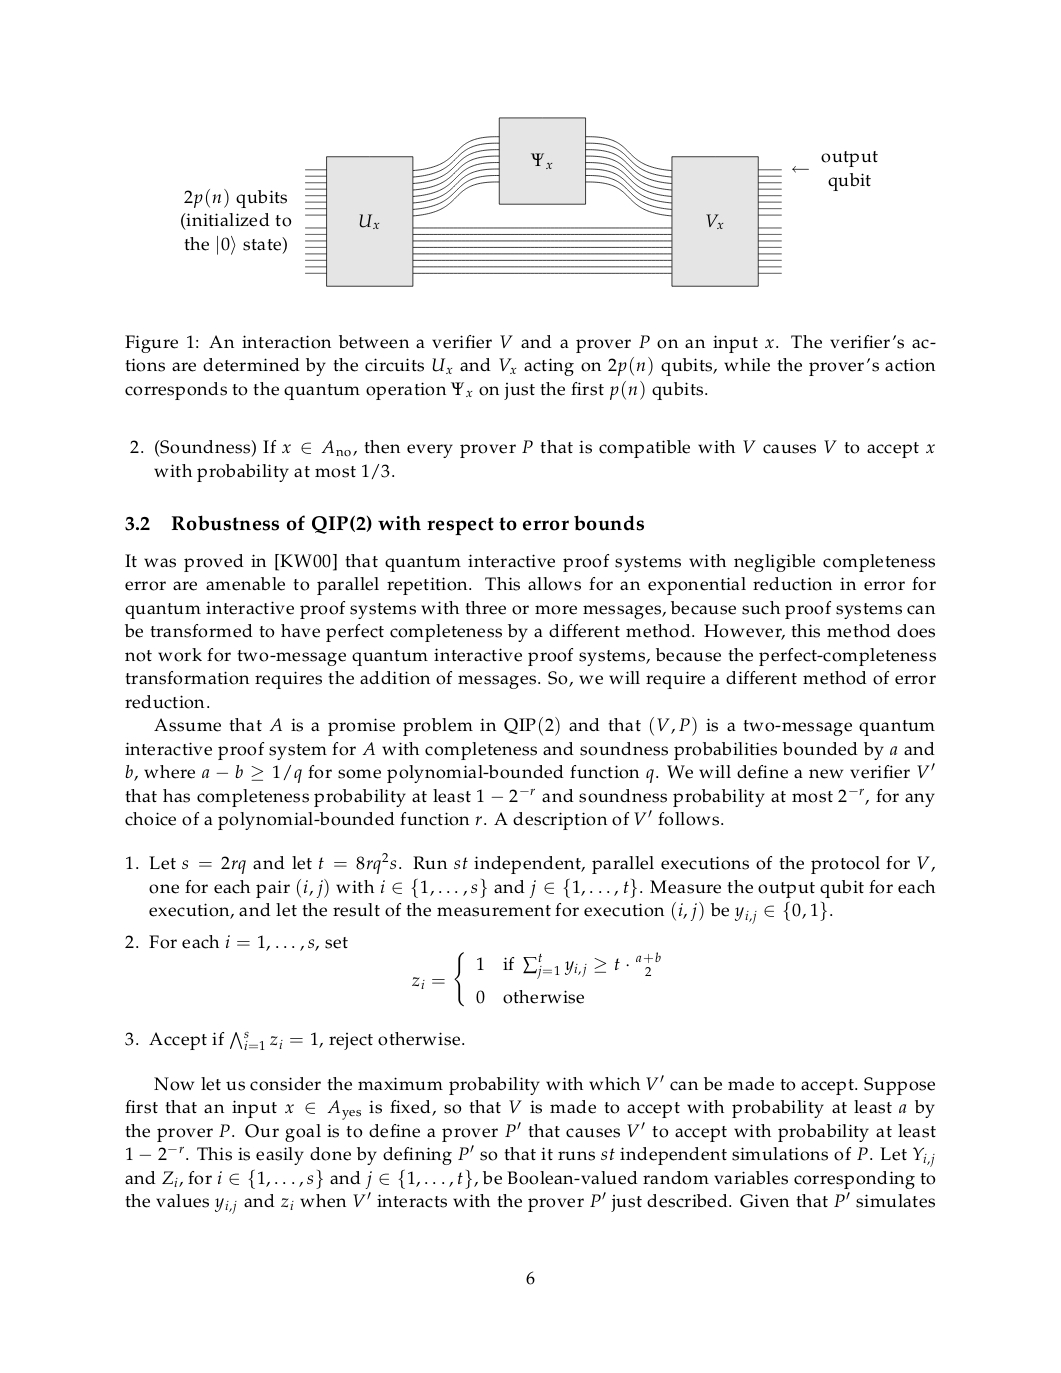figure: (181, 116, 877, 288)
formula: (412, 951, 660, 1007)
